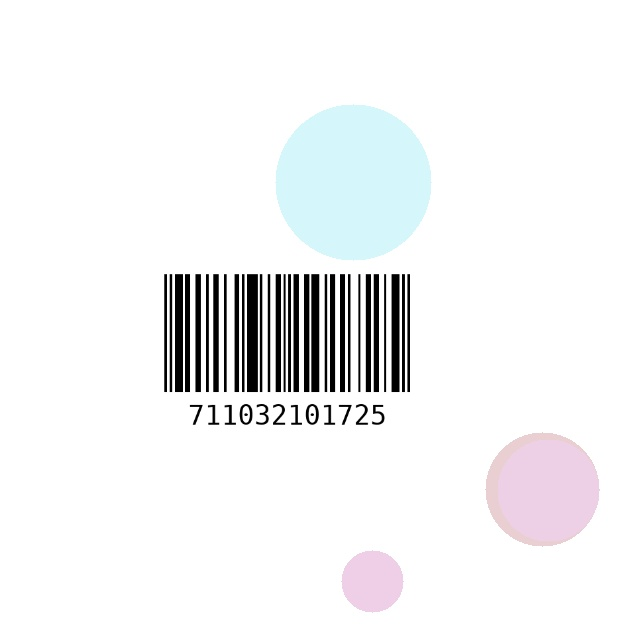barcode: (114, 267, 460, 452)
